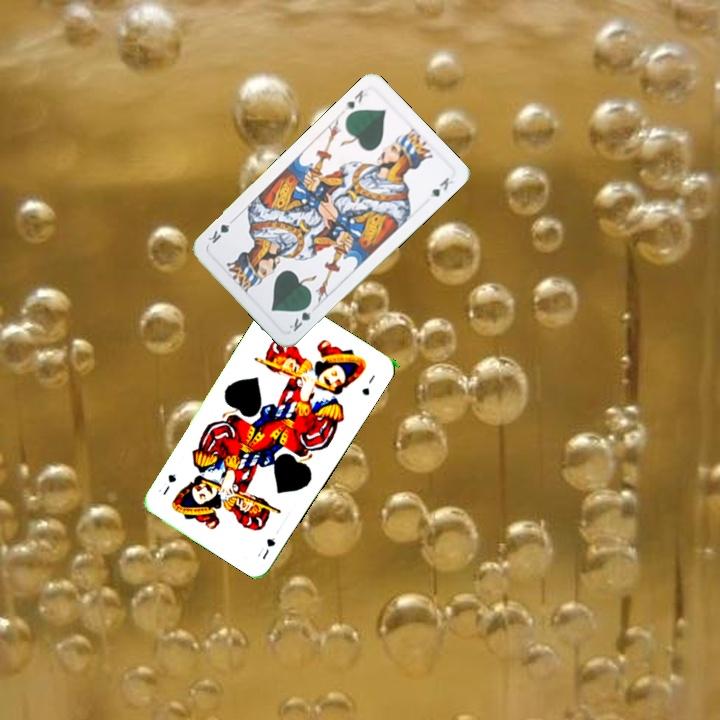GK: (284, 299, 315, 334), (341, 86, 366, 114)
GU: (258, 533, 278, 562)
